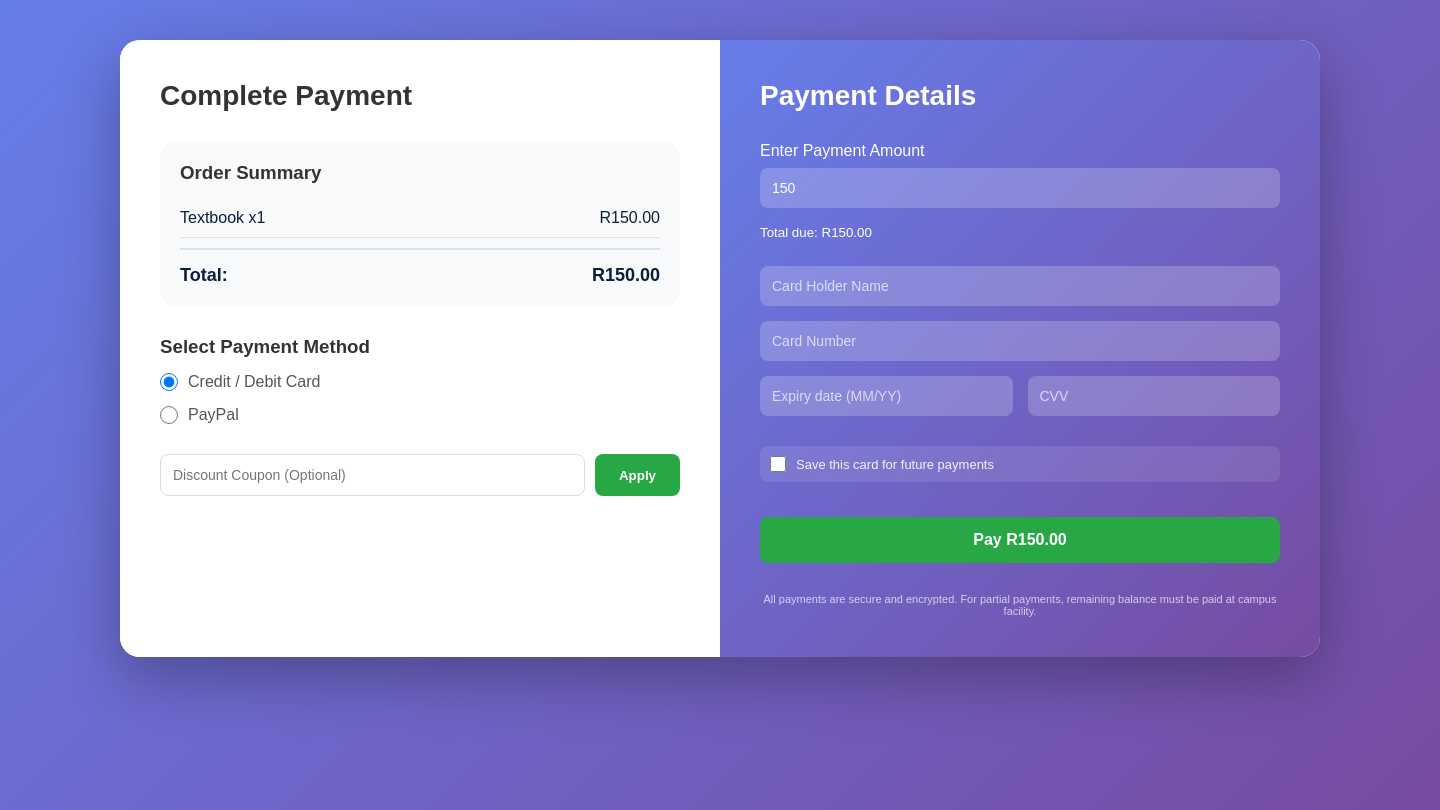
Test: PaymentForm Component Coverage Suite › equivalence partition invalid: rejects transaction attempts when input amount is zero or negative
This screenshot has width=1440, height=810.
Replace the text in the number field with "-10". click: (1020, 188)
box: [760, 168, 1280, 208]
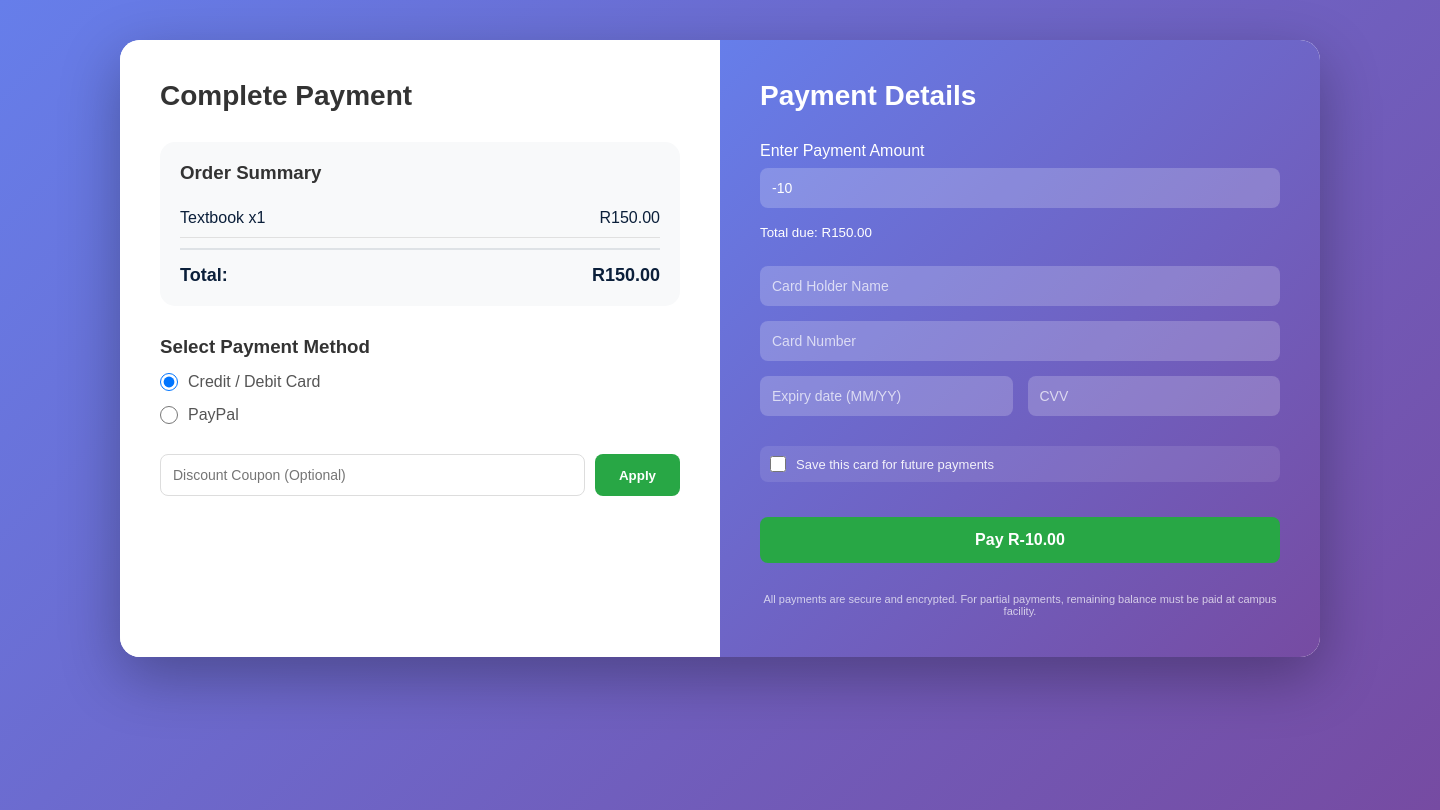
Click the button "Pay R-10.00". click: click(1020, 540)
box: [760, 517, 1280, 563]
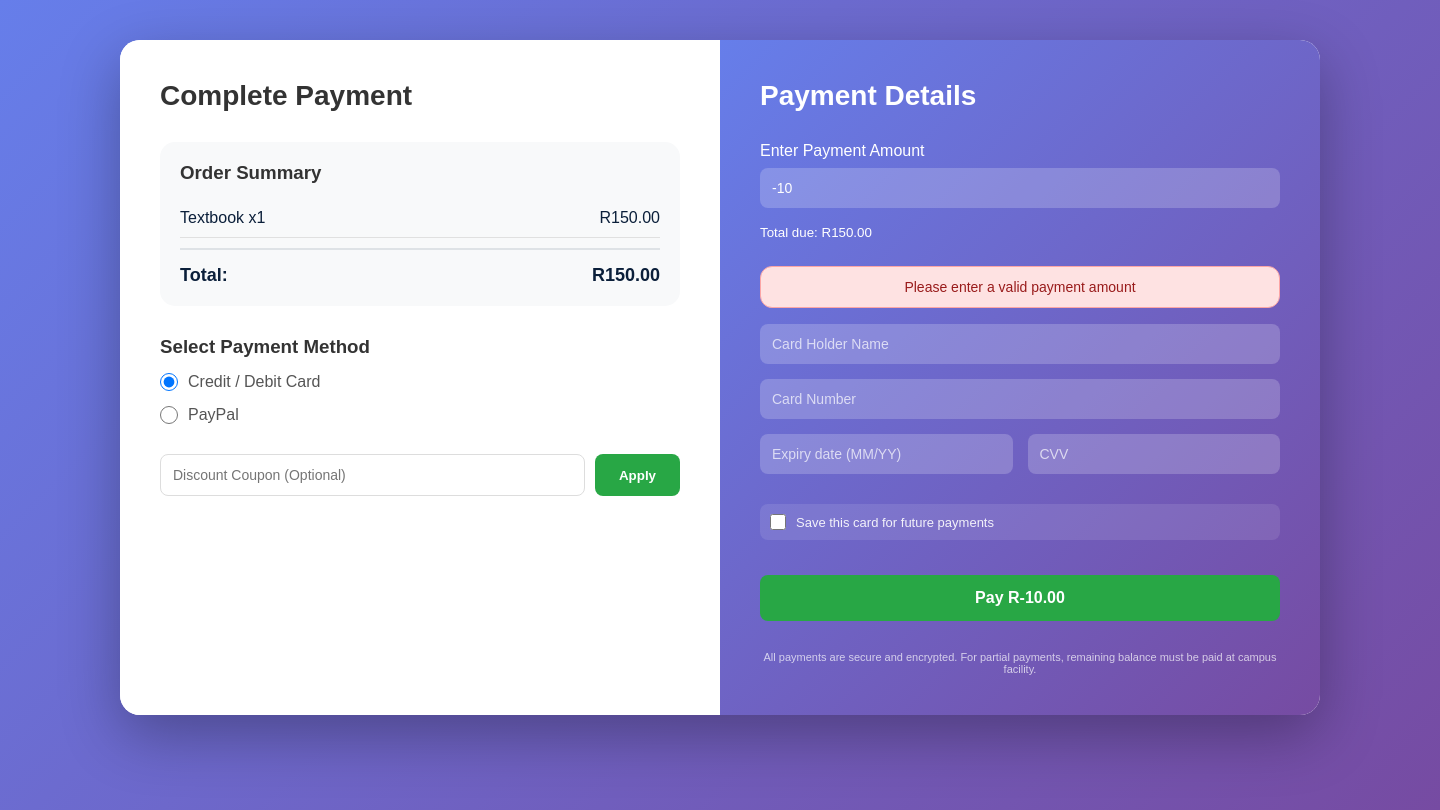
Check: the text "Please enter a valid payment amount" is shown, box [760, 266, 1280, 308]
